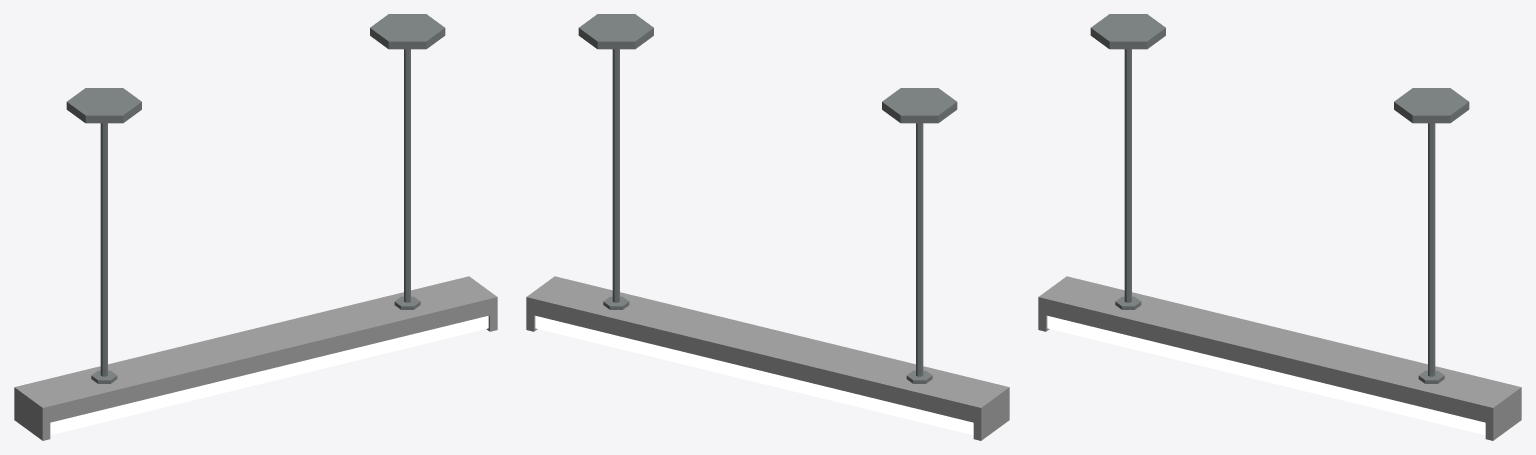
Rendered from SM_Props_Interior_Shop_Light_CeilingLight_11.fbx.
The picture shows the model from 3 angles, left to right: view 1: azimuth 30°, elevation 25°; view 2: azimuth 150°, elevation 25°; view 3: azimuth 330°, elevation 25°; orthographic projection.
Visible parts, largest first — view 1: SM_Props_Interior_Shop_Light_CeilingLight_11; view 2: SM_Props_Interior_Shop_Light_CeilingLight_11; view 3: SM_Props_Interior_Shop_Light_CeilingLight_11.
Part boxes in pixels (x1,y1,x2,y2): SM_Props_Interior_Shop_Light_CeilingLight_11: [14, 14, 497, 440]; SM_Props_Interior_Shop_Light_CeilingLight_11: [526, 14, 1009, 440]; SM_Props_Interior_Shop_Light_CeilingLight_11: [1038, 14, 1521, 440].
Size of the model in its own units: 120 by 78.25 by 17.19.
